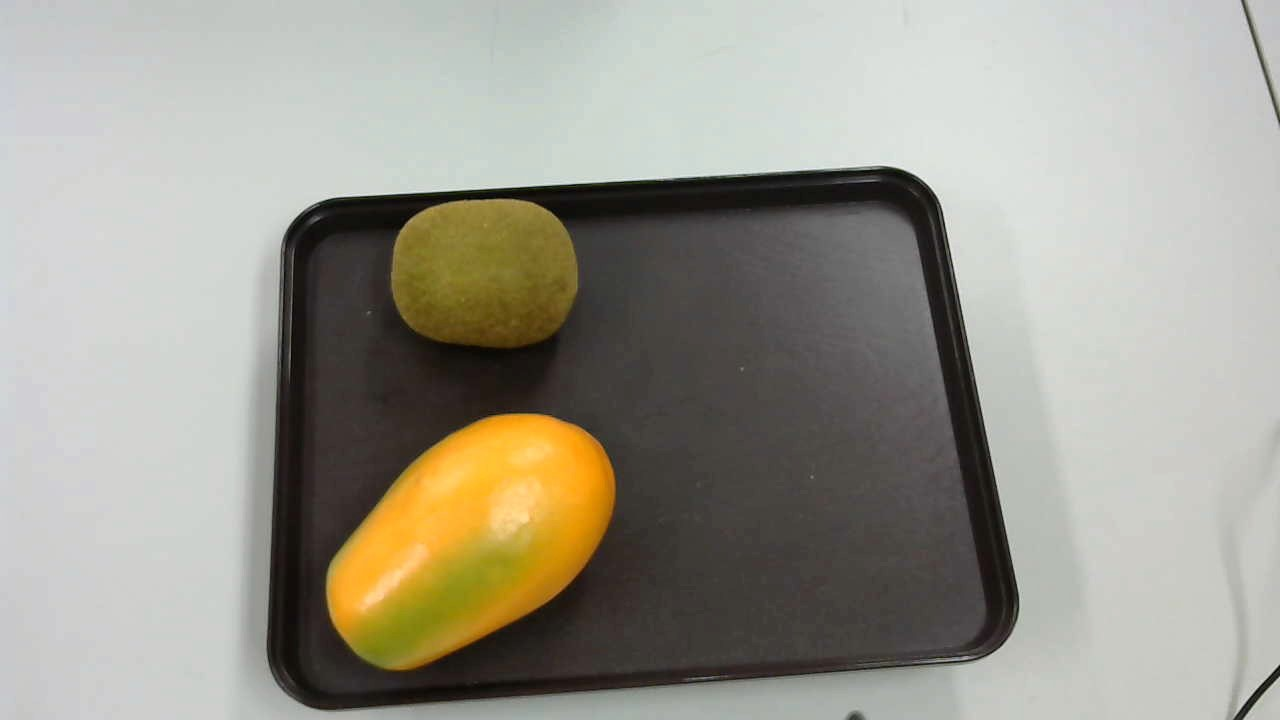kiwi fruit: (390, 199, 581, 354)
papya: (320, 405, 618, 675)
